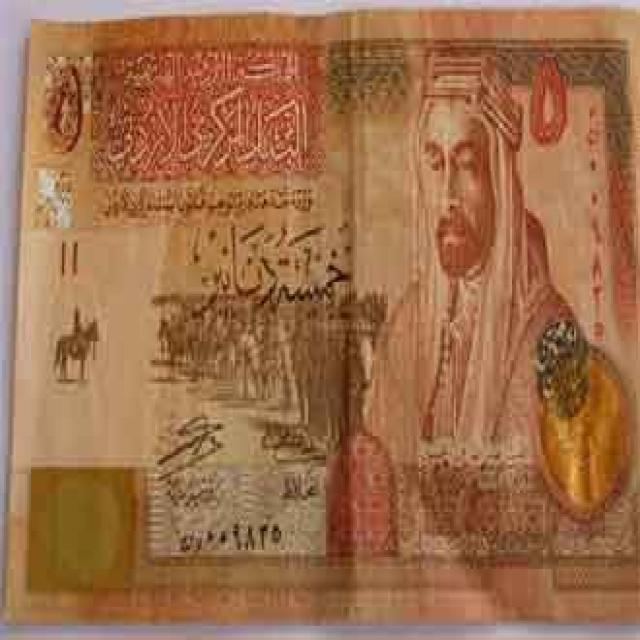5-dinar: (0, 11, 640, 628)
